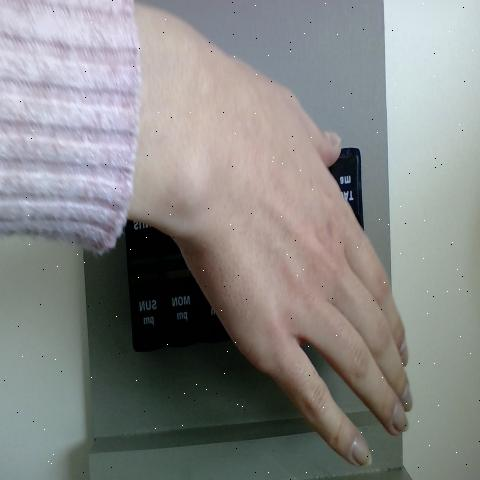Hands: (139, 56, 437, 472)
